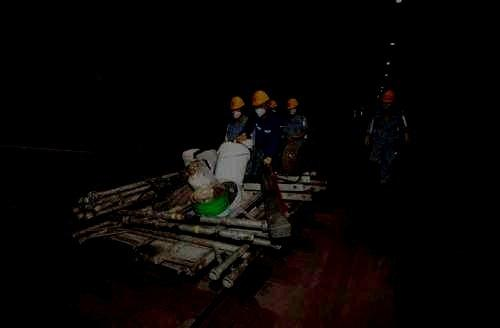helmet: (251, 90, 270, 118), (230, 96, 245, 119), (381, 89, 396, 109), (286, 98, 299, 115), (267, 99, 279, 113)
